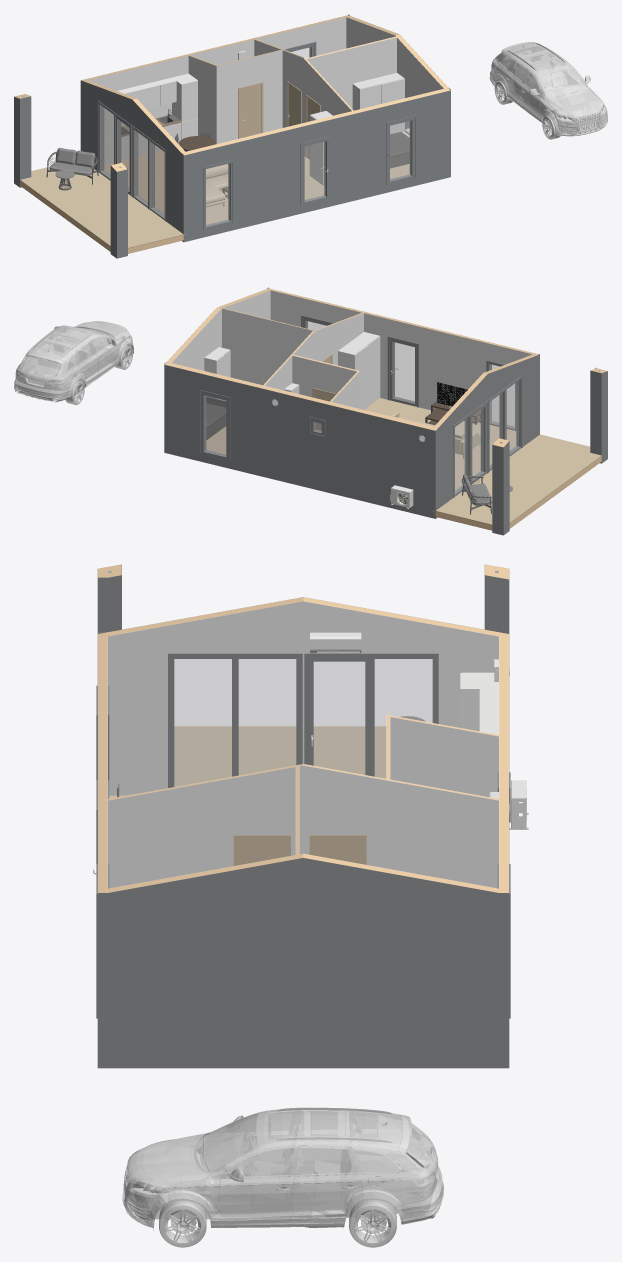
File: house1.fbx
3 views of the same model, one above another, from view 1: azimuth 30°, elevation 25°; view 2: azimuth 150°, elevation 25°; view 3: azimuth 270°, elevation 25° (orthographic). The views are drawn at different scales.
Visible parts, largest first — view 1: IfcWall/Part:2345366, IfcFurnishingElement/Audi+Q7+-+Change+color+bimshares.com (2, IfcSlab/Part:2483406, IfcWall/Part:2345356, IfcWall/Part:2345363, IfcWall/Part:2626975, IfcWall/Part:2471451, IfcSlab/Part:2483412, IfcWall/Part:2345359, IfcDoor/Durys išorinės:1000x2100x160 (kairinės):2948766, IfcWindow/Langai (Akrusta):1000x2100x160:2950695, IfcWindow/Langai (Akrusta):1000x2100x160 (dešininis):2957455 (+28 smaller); view 2: IfcWall/Part:2345357, IfcWall/Part:2345365, IfcFurnishingElement/Audi+Q7+-+Change+color+bimshares.com (2, IfcSlab/Part:2483406, IfcWall/Part:2345363, IfcWall/Part:2471450, IfcSlab/Part:2483412, IfcWall/Part:2345359, IfcFurnishingElement/Ikea spinta:1600 x 600 x 2100mm:2626930, IfcWindow/Langai (Akrusta):1000x2100x160 (kairinis):2957625, IfcDoor/Durys išorinės:1000x2100x160 (kairinės):2948766, IfcWall/Part:2626974 (+24 smaller); view 3: IfcWall/Part:2345360, IfcFurnishingElement/Audi+Q7+-+Change+color+bimshares.com (2, IfcWall/Part:2345362, IfcWall/Part:2471453, IfcWall/Part:2483465, IfcSlab/Part:2483406, IfcWindow/Langai (Akrusta):1000x2400x160:2630344, IfcWindow/Langai (Akrusta):1000x2400x160:2602952, IfcWindow/Langai (Akrusta):1000x2400x160 (dešininis):2956135, IfcWall/Part:2626971, IfcWindow/Langai (Akrusta):1000x2400x160:2630316, IfcWall/Part:2345367 (+9 smaller).
Part boxes in pixels (<box>): IfcWall/Part:2345366: <box>183,90,450,242</box>; IfcFurnishingElement/Audi+Q7+-+Change+color+bimshares.com (2: <box>489,42,607,139</box>; IfcSlab/Part:2483406: <box>20,166,185,248</box>; IfcWall/Part:2345356: <box>88,17,346,126</box>; IfcWall/Part:2345363: <box>80,80,183,241</box>; IfcWall/Part:2626975: <box>217,50,282,143</box>; IfcWall/Part:2471451: <box>307,37,396,108</box>; IfcSlab/Part:2483412: <box>104,150,409,224</box>; IfcWall/Part:2345359: <box>346,17,443,129</box>; IfcDoor/Durys išorinės:1000x2100x160 (kairinės):2948766: <box>300,136,331,205</box>; IfcWindow/Langai (Akrusta):1000x2100x160:2950695: <box>203,159,233,229</box>; IfcWindow/Langai (Akrusta):1000x2100x160 (dešininis):2957455: <box>386,115,416,184</box>; IfcWall/Part:2345357: <box>164,364,435,518</box>; IfcWall/Part:2345365: <box>270,290,532,417</box>; IfcFurnishingElement/Audi+Q7+-+Change+color+bimshares.com (2: <box>14,321,133,405</box>; IfcSlab/Part:2483406: <box>433,434,601,524</box>; IfcWall/Part:2345363: <box>435,354,539,518</box>; IfcWall/Part:2471450: <box>222,308,313,385</box>; IfcSlab/Part:2483412: <box>206,398,516,490</box>; IfcWall/Part:2345359: <box>171,290,270,370</box>; IfcFurnishingElement/Ikea spinta:1600 x 600 x 2100mm:2626930: <box>338,332,380,409</box>; IfcWindow/Langai (Akrusta):1000x2100x160 (kairinis):2957625: <box>199,390,230,460</box>; IfcDoor/Durys išorinės:1000x2100x160 (kairinės):2948766: <box>387,336,418,407</box>; IfcWall/Part:2626974: <box>292,355,356,397</box>; IfcWall/Part:2345360: <box>98,858,508,1068</box>; IfcFurnishingElement/Audi+Q7+-+Change+color+bimshares.com (2: <box>122,1107,444,1247</box>; IfcWall/Part:2345362: <box>108,601,498,795</box>; IfcWall/Part:2471453: <box>299,765,498,888</box>; IfcWall/Part:2483465: <box>108,767,295,888</box>; IfcSlab/Part:2483406: <box>174,726,386,786</box>; IfcWindow/Langai (Akrusta):1000x2400x160:2630344: <box>168,653,238,787</box>; IfcWindow/Langai (Akrusta):1000x2400x160:2602952: <box>232,653,302,776</box>; IfcWindow/Langai (Akrusta):1000x2400x160 (dešininis):2956135: <box>304,653,374,776</box>; IfcWall/Part:2626971: <box>390,717,498,797</box>; IfcWindow/Langai (Akrusta):1000x2400x160:2630316: <box>368,653,438,778</box>; IfcWall/Part:2345367: <box>98,632,107,892</box>.
Size of the model in its own units: 1829 by 382 by 676.
